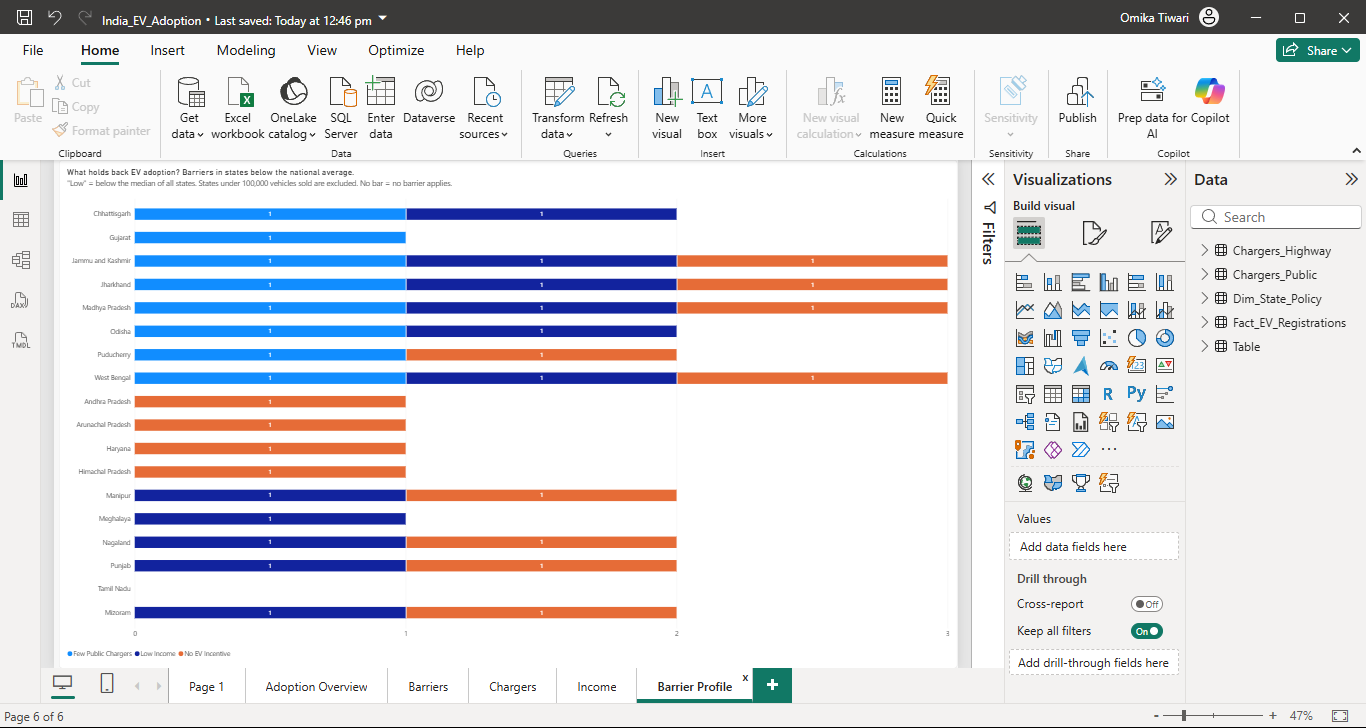

This screenshot's page, from the dashboard's own definition file:
{"tool":"powerbi","page":{"name":"Barrier Profile","canvas":[1920,1080],"ordinal":5},"visuals":[{"type":"barChart","title":"What holds back EV adoption? Barriers in states below the national average.","fields":{"Category":["Dim_State_Policy.State"],"Y":["Dim_State_Policy.Flag Low Chargers","Dim_State_Policy.Flag Low Income","Dim_State_Policy.Flag No Incentive"]},"box":[10.1,0,1909.9,1080.9],"z":0},{"type":"textbox","box":[10,290,280,280],"z":1}]}

Visuals, with their boxes on the page's 1920x1080 design canvas (x1, y1, x2, y2). These are canvas units, not pixel positions in the 1366x728 screenshot, which may show the page scaled, cropped or inside an application window:
"What holds back EV adoption? Barriers in states below the national average." barChart: x1=10 y1=0 x2=1920 y2=1081
textbox: x1=10 y1=290 x2=290 y2=570
